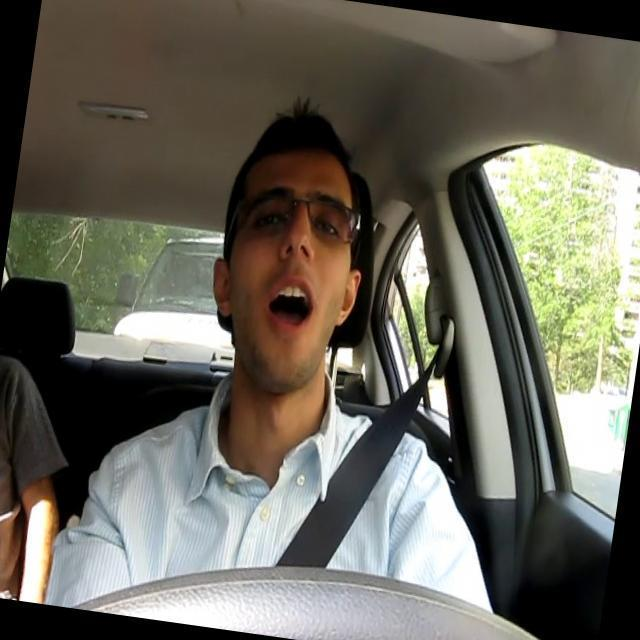open-mouth: (264, 272, 316, 338)
